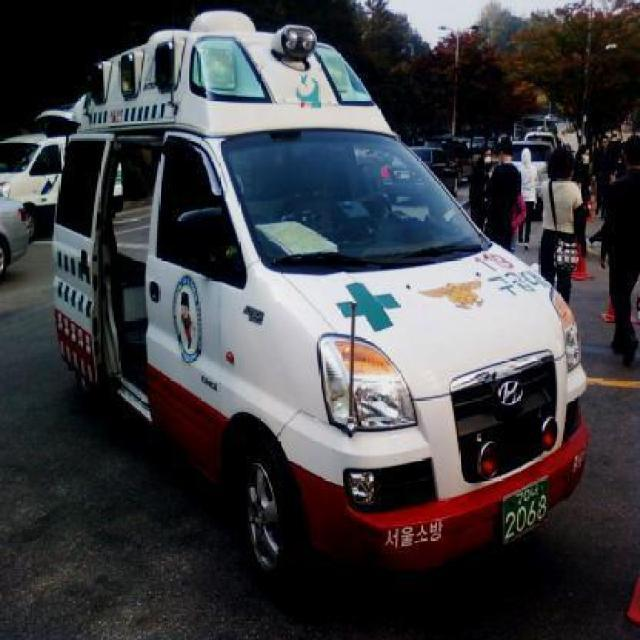emergency: (41, 8, 591, 584)
